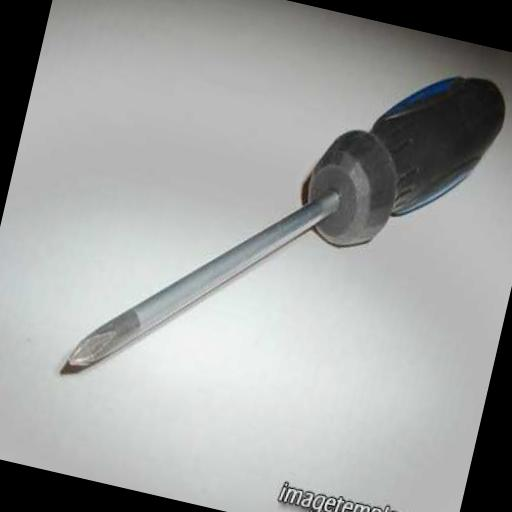screwdriver: (64, 1, 512, 449)
